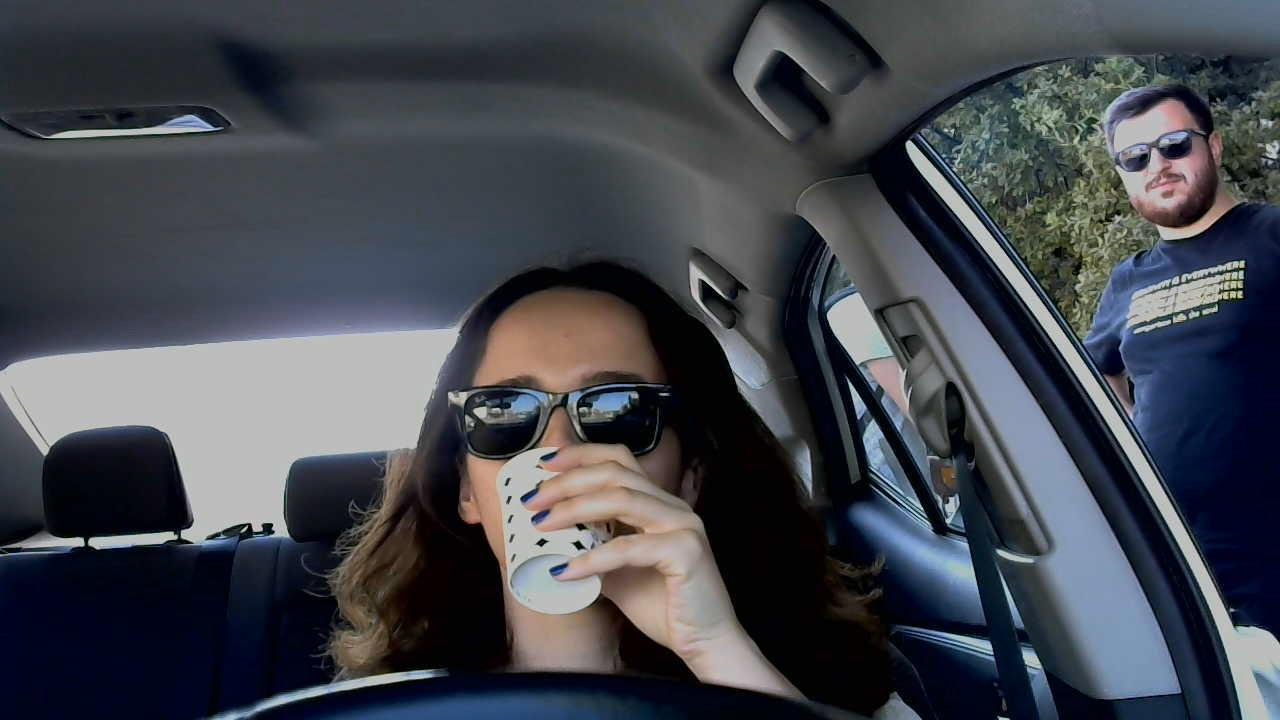Drinking: (450, 283, 704, 632)
